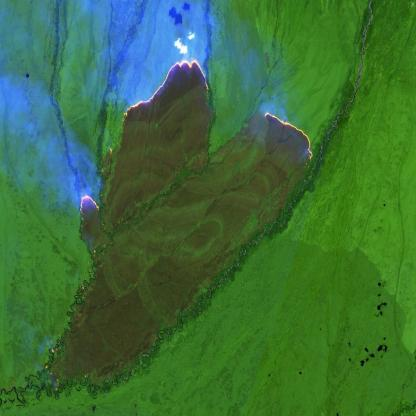fire: (120, 56, 214, 127), (260, 104, 318, 166), (75, 191, 103, 222)
